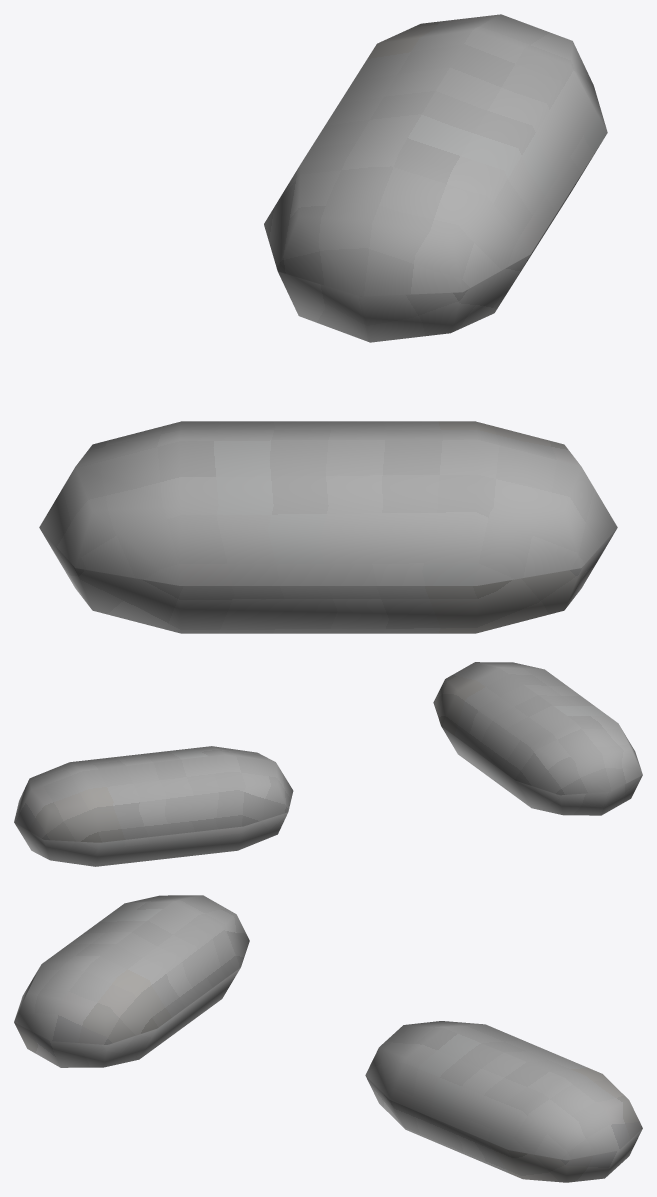
Rendered from pills_1.glb.
3 renders of one model, top to bottom at view 1: azimuth 30°, elevation 25°; view 2: azimuth 150°, elevation 25°; view 3: azimuth 270°, elevation 25°, orthographic. The views are drawn at different scales.
Visible parts, largest first — view 1: pills_1; view 2: pills_1; view 3: pills_1.
Part boxes in pixels (<box>): pills_1: <box>39,14,617,633</box>; pills_1: <box>14,662,642,866</box>; pills_1: <box>14,895,642,1182</box>.
Size of the model in its own units: 0.0648 by 0.0123 by 0.0711.
1 material, 1 textured.
